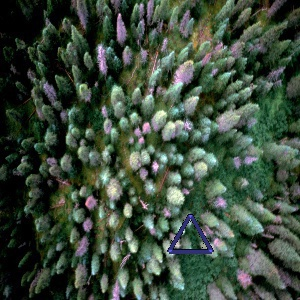triangle: (165, 212, 215, 255)
